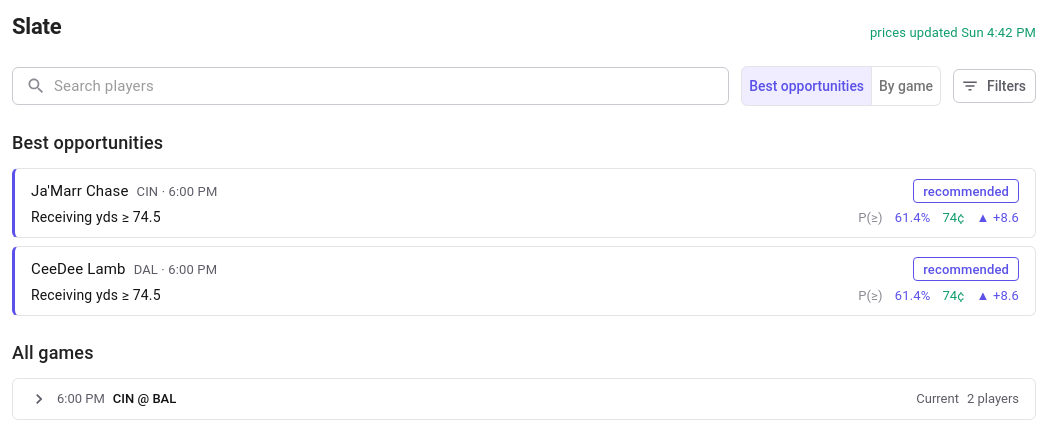
Slate search & filters (SIG-97 — selection over loaded rows) › search narrows by partial name and updates the URL (shallow, no refetch)
Check: the text "Ja'Marr Chase" is shown, box 31,180 -> 128,202
Check: the text "CeeDee Lamb" is shown, box 31,258 -> 126,280
In the field labelled "Search players": point(392, 86) 54,67 -> 729,106, type "lamb"
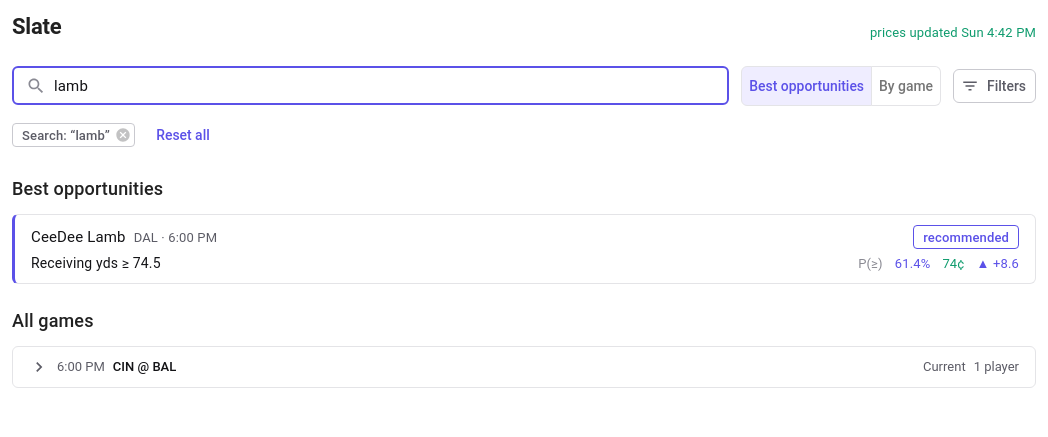
Check: the text "CeeDee Lamb" is shown, box 31,226 -> 126,248
Check: the link "Ja'Marr Chase" is gone
